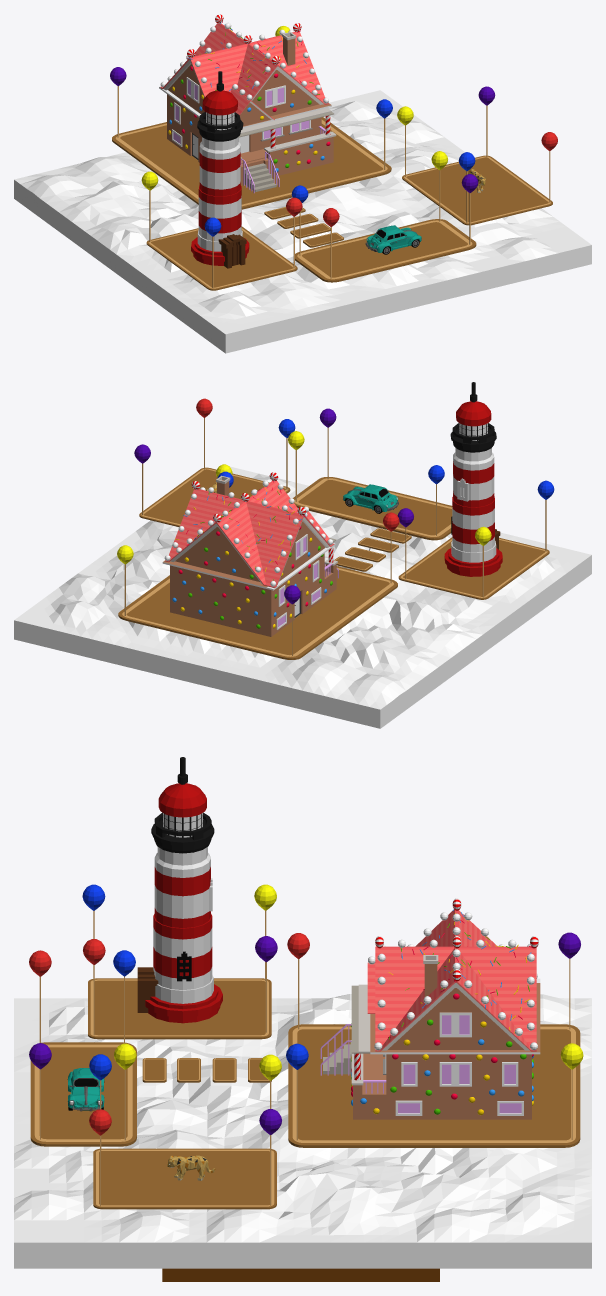
3 renders of one model, top to bottom at view 1: azimuth 30°, elevation 25°; view 2: azimuth 150°, elevation 25°; view 3: azimuth 270°, elevation 25°, orthographic. The views are drawn at different scales.
Visible parts, largest first — view 1: Cube.013, Cube.1203, OBJRANDOM_LIGHTHOUSE, VEHICLES_VOLKSWAGEN; view 2: Cube.013, Cube.1203, OBJRANDOM_LIGHTHOUSE, VEHICLES_VOLKSWAGEN; view 3: Cube.013, Cube.1203, OBJRANDOM_LIGHTHOUSE, UNDERGROUND_ART_PIECE_VAN_GOGH, VEHICLES_VOLKSWAGEN, ANIMAL_JAGUAR.
Part boxes in pixels (<box>): Cube.013: <box>14,26,591,353</box>; Cube.1203: <box>159,14,336,193</box>; OBJRANDOM_LIGHTHOUSE: <box>191,71,249,268</box>; VEHICLES_VOLKSWAGEN: <box>365,225,421,254</box>; Cube.013: <box>14,398,591,728</box>; Cube.1203: <box>162,472,338,636</box>; OBJRANDOM_LIGHTHOUSE: <box>444,382,502,576</box>; VEHICLES_VOLKSWAGEN: <box>342,484,398,513</box>; Cube.013: <box>14,884,591,1268</box>; Cube.1203: <box>320,898,540,1119</box>; OBJRANDOM_LIGHTHOUSE: <box>137,757,222,1023</box>; UNDERGROUND_ART_PIECE_VAN_GOGH: <box>162,1268,439,1281</box>; VEHICLES_VOLKSWAGEN: <box>67,1068,104,1111</box>; ANIMAL_JAGUAR: <box>167,1155,215,1180</box>.
Size of the model in its own units: 4000 by 2526 by 4000.
Materials: 46 (3 with a texture image).
